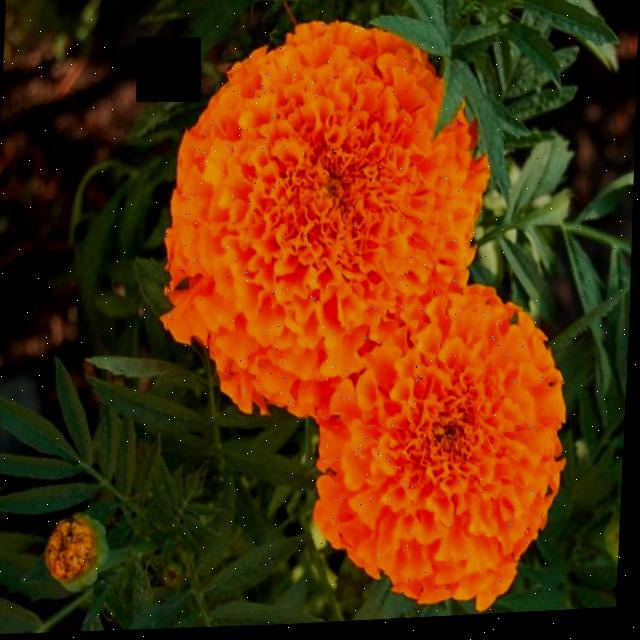marigold: (142, 0, 574, 634)
